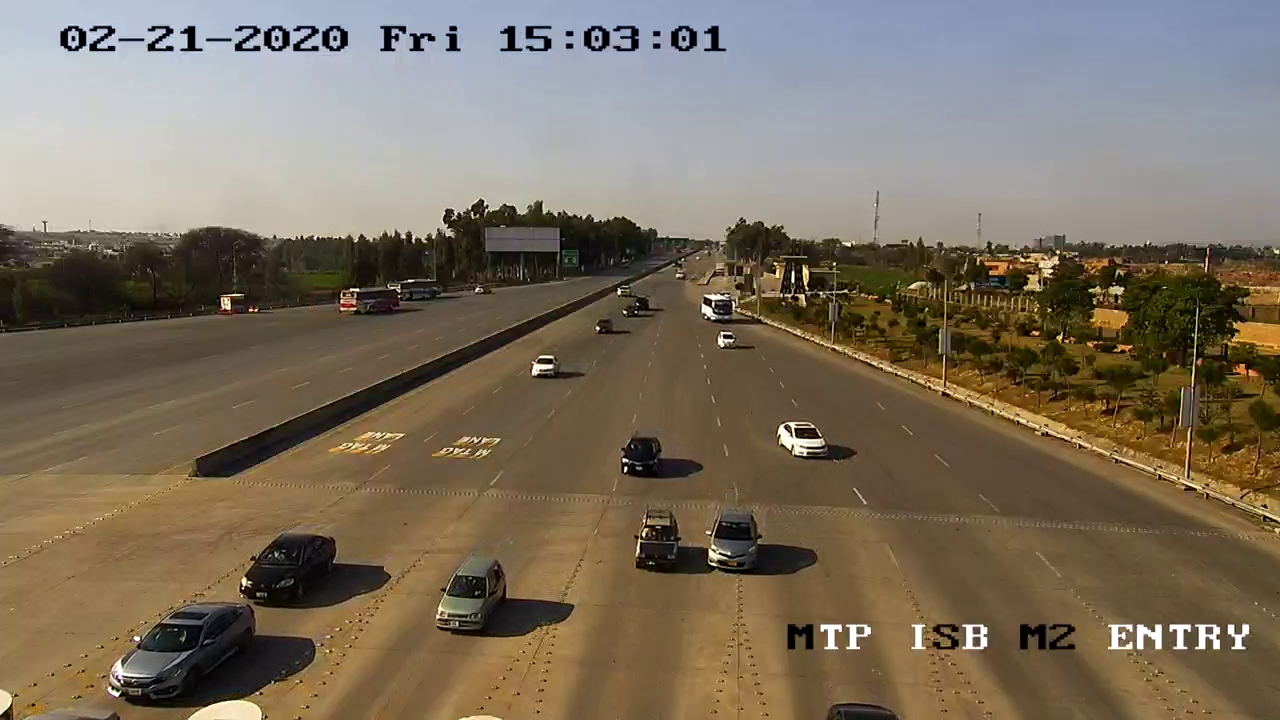f1: (102, 597, 265, 708), (228, 524, 346, 608), (428, 554, 515, 640), (697, 501, 769, 578), (625, 503, 690, 577), (612, 428, 674, 483)
